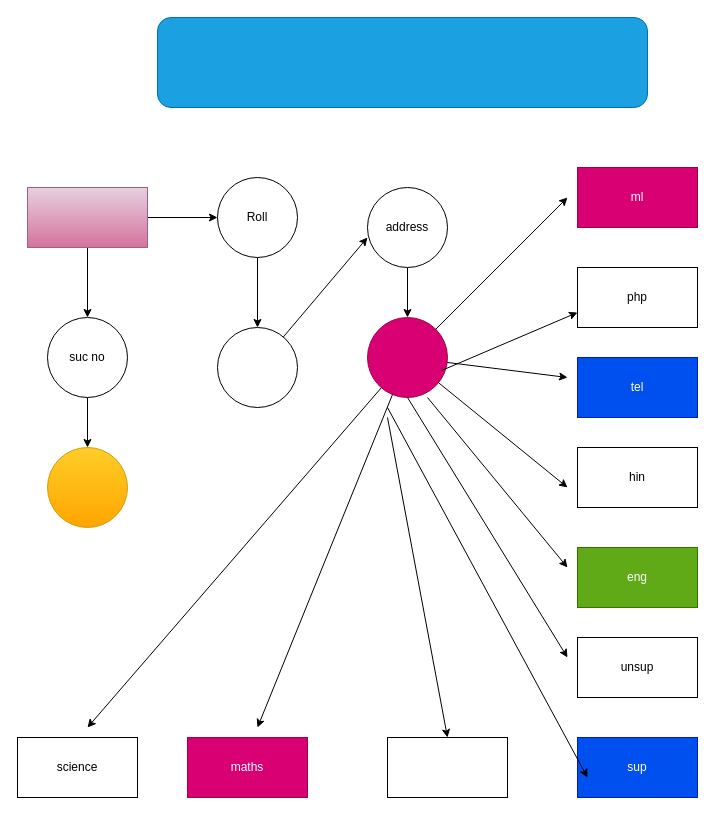
The diagram is 715 pixels wide and 815 high, and some of its shapes have lost their labels. The box of each missing label's shape, as (x1, y1, x2, y2) in pixels:
Gender: (46, 446, 128, 528)
iot: (386, 736, 508, 798)
Name: (26, 186, 148, 248)
ph no: (216, 326, 298, 408)
Student Information: (156, 16, 648, 108)
subjects: (366, 316, 448, 398)
